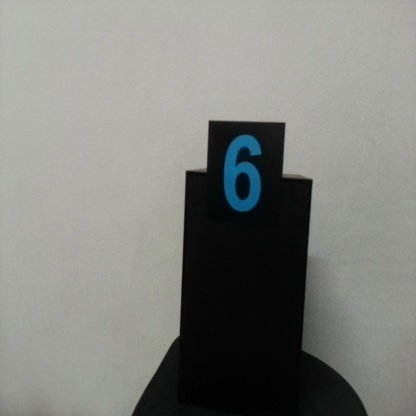id_6: (208, 121, 284, 244)
